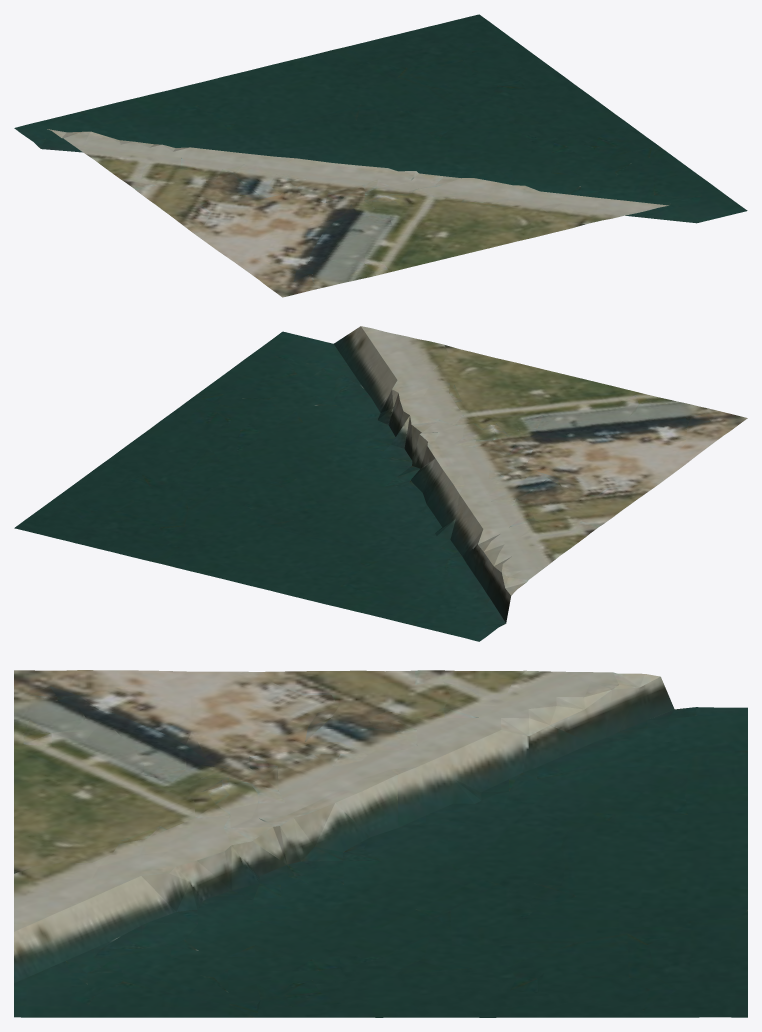
The picture shows the model from 3 angles, top to bottom: view 1: azimuth 30°, elevation 25°; view 2: azimuth 150°, elevation 25°; view 3: azimuth 270°, elevation 25°; orthographic projection. The views are drawn at different scales.
Bounding box in the file's own units: 104 × 6.53 × 104.
3 materials, 3 textured.
